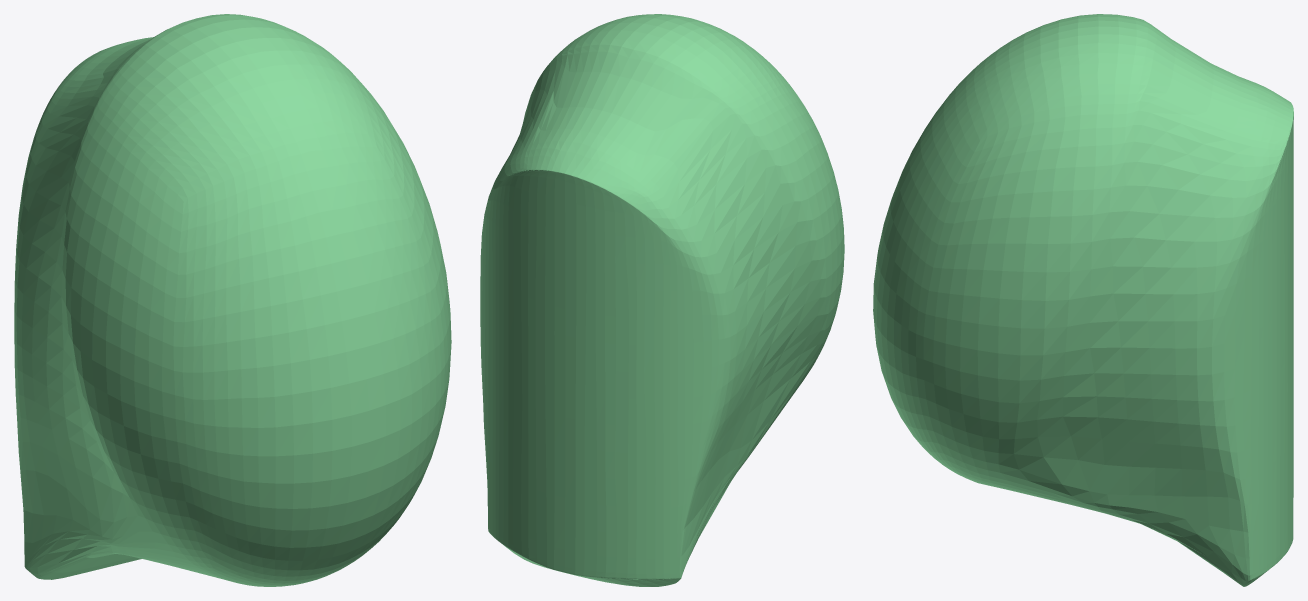
The model's file is f_distal_bt_sp.dae.
3 renders of one model, left to right at view 1: azimuth 30°, elevation 25°; view 2: azimuth 150°, elevation 25°; view 3: azimuth 270°, elevation 25°, orthographic. The views are drawn at different scales.
Parts seen in each view (by area): view 1: f_distal_bt_sp; view 2: f_distal_bt_sp; view 3: f_distal_bt_sp.
Boxes of the visible parts, x1,y1,x2,y2 form: f_distal_bt_sp: [14, 14, 451, 586]; f_distal_bt_sp: [480, 14, 844, 586]; f_distal_bt_sp: [873, 14, 1293, 586].
Bounding box in the file's own units: 19.65 × 23.38 × 31.92.
